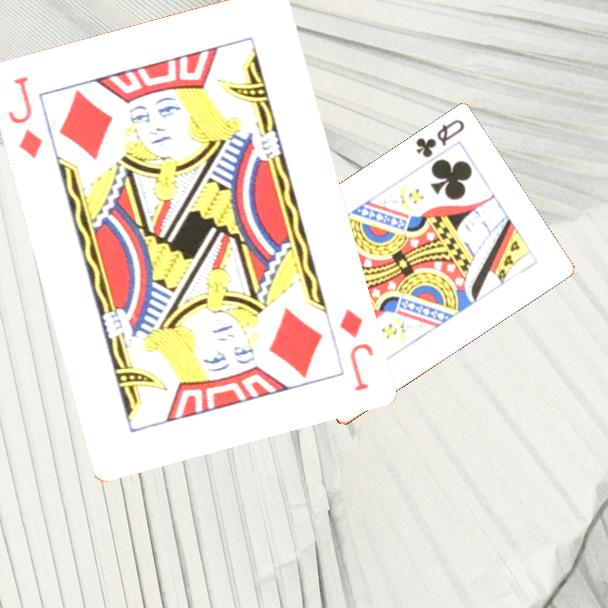c12: (412, 116, 467, 161)
d11: (4, 72, 45, 161), (335, 305, 376, 394)
